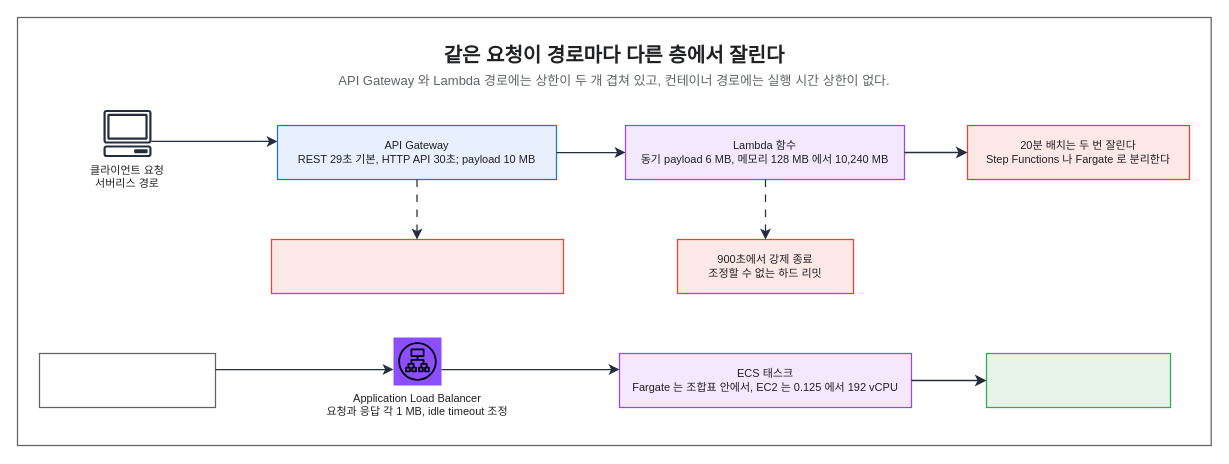
The diagram is 1229 pixels wide and 464 high, and some of its shapes have lost their labels. Each missing label, with the box of its shape:
REST 기본 29초에서 504 Regional 과 private REST API 만 증설을 요청할 수 있다: (270, 238, 564, 294)
같은 요청, 컨테이너 경로 비교 대상: (38, 352, 216, 408)
실행 시간 상한이 없다 대신 용량과 패치와 스케일 정책을 직접 정한다: (985, 352, 1171, 408)
